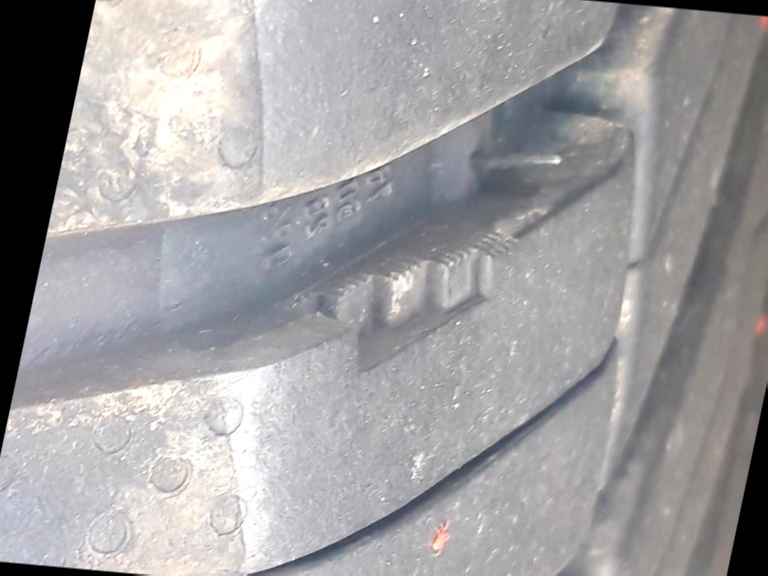temoin:90: (247, 195, 532, 400)
